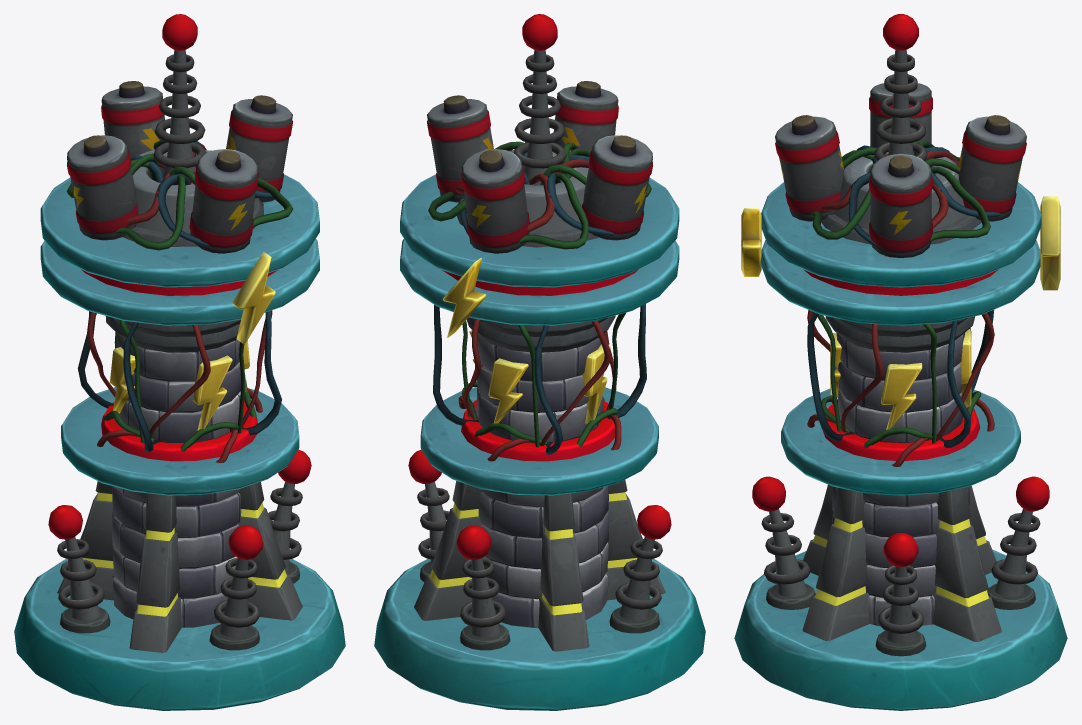
The model's file is SM_TowerDefense_Electric_Lv5.fbx.
The picture shows the model from 3 angles, left to right: view 1: azimuth 30°, elevation 25°; view 2: azimuth 150°, elevation 25°; view 3: azimuth 270°, elevation 25°; orthographic projection.
Visible parts, largest first — view 1: SM_TowerDefense_Electric_Lv5; view 2: SM_TowerDefense_Electric_Lv5; view 3: SM_TowerDefense_Electric_Lv5.
Part boxes in pixels (x1,y1,x2,y2): SM_TowerDefense_Electric_Lv5: (14, 14, 345, 710); SM_TowerDefense_Electric_Lv5: (374, 14, 705, 710); SM_TowerDefense_Electric_Lv5: (734, 14, 1067, 710).
Bounding box in the file's own units: 1031 × 2142 × 1031.
